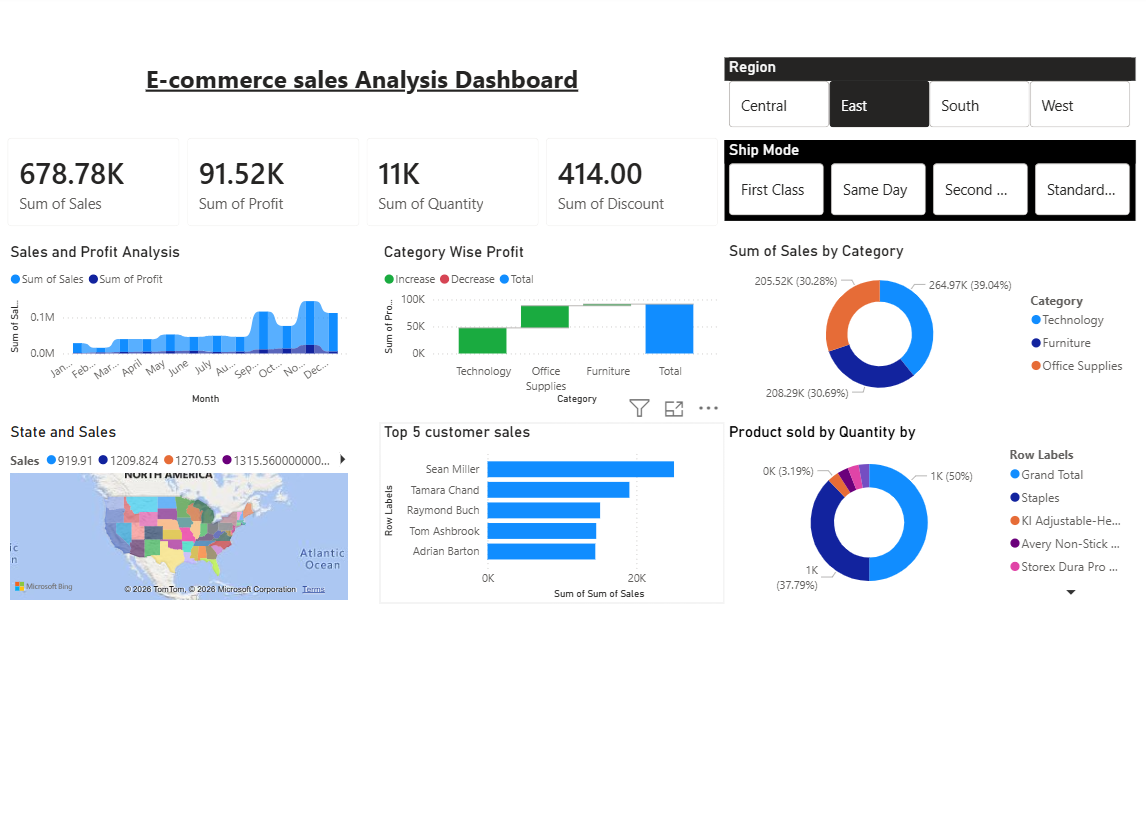

The dashboard page shown, as its layout file describes it:
{"tool":"powerbi","page":{"name":"Page 2","canvas":[1280,720],"ordinal":1},"visuals":[{"type":"ribbonChart","title":"Sales and Profit Analysis","fields":{"Category":["Table_1.Ship Date.Variation.Date Hierarchy.Month"],"Y":["Sum(Table_1.Sales)","Sum(Table_1.Profit)"]},"box":[15.6,271.4,380.3,182.9],"z":0},{"type":"cardVisual","fields":{"Data":["Sum(Table_1.Sales)","Sum(Table_1.Profit)","Sum(Table_1.Quantity)","Sum(Table_1.Discount)"]},"box":[0,140.1,816,131.3],"z":1000},{"type":"advancedSlicerVisual","fields":{"Values":["Table_1.Region"]},"box":[804.4,69.1,451.3,82.7],"z":2000},{"type":"advancedSlicerVisual","fields":{"Values":["Table_1.Ship Mode"]},"box":[804.4,158.5,451.3,88.5],"z":3000},{"type":"textbox","box":[15.6,69.1,782,71],"z":4000},{"type":"waterfallChart","title":" Category Wise Profit","fields":{"Category":["Table_1.Category"],"Y":["Sum(Table_1.Profit)"]},"box":[425,271.4,379.3,182.9],"z":5000},{"type":"donutChart","fields":{"Y":["Sum(Table_1.Sales)"],"Category":["Table_1.Category"]},"box":[804,271,451,183],"z":6000},{"type":"filledMap","fields":{"Series":["Table 4 (Map Chart).Sales"],"Category":["Table 4 (Map Chart).State"]},"box":[15.6,468.8,380.3,199.4],"z":7000},{"type":"clusteredBarChart","title":"Top 5 customer sales","fields":{"Y":["Sum(Row Labels (Top 5 Customers).Sum of Sales)"],"Category":["Row Labels (Top 5 Customers).Row Labels"]},"box":[425,469,379,199],"z":7001},{"type":"donutChart","title":"Product sold by Quantity by ","fields":{"Category":["Row Labels (Top 5 Customers) (2).Row Labels"],"Y":["Sum(Row Labels (Top 5 Customers) (2).Sum of Quantity)"]},"box":[804,469,451,199],"z":7002}]}

Visuals, with their boxes on the page's 1280x720 design canvas (x1, y1, x2, y2). These are canvas units, not pixel positions in the 1147x823 screenshot, which may show the page scaled, cropped or inside an application window:
"Sales and Profit Analysis" ribbonChart: select_region(16, 271, 396, 454)
cardVisual - Sum(Table_1.Sales) x Sum(Table_1.Profit): select_region(0, 140, 816, 271)
advancedSlicerVisual - Table_1.Region: select_region(804, 69, 1256, 152)
advancedSlicerVisual - Table_1.Ship Mode: select_region(804, 158, 1256, 247)
textbox: select_region(16, 69, 798, 140)
" Category Wise Profit" waterfallChart: select_region(425, 271, 804, 454)
donutChart - Sum(Table_1.Sales) x Table_1.Category: select_region(804, 271, 1255, 454)
filledMap - Table 4 (Map Chart).Sales x Table 4 (Map Chart).State: select_region(16, 469, 396, 668)
"Top 5 customer sales" clusteredBarChart: select_region(425, 469, 804, 668)
"Product sold by Quantity by " donutChart: select_region(804, 469, 1255, 668)
